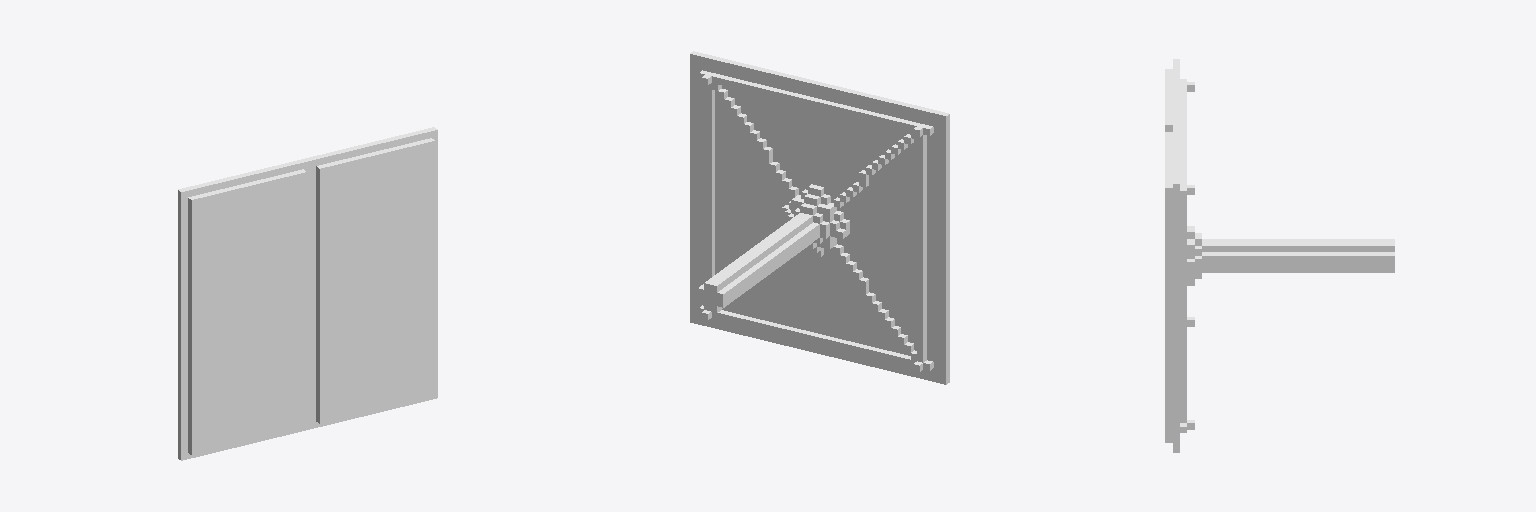
The model's file is solar.obj.
3 renders of one model, left to right at view 1: azimuth 30°, elevation 25°; view 2: azimuth 150°, elevation 25°; view 3: azimuth 270°, elevation 25°, orthographic.
Parts seen in each view (by area): view 1: object 1; view 2: object 1; view 3: object 1.
Boxes of the visible parts, <box> form: object 1: <box>178,127,437,460</box>; object 1: <box>690,51,949,384</box>; object 1: <box>1165,59,1394,452</box>.
Size of the model in its own units: 4 by 4 by 3.1.